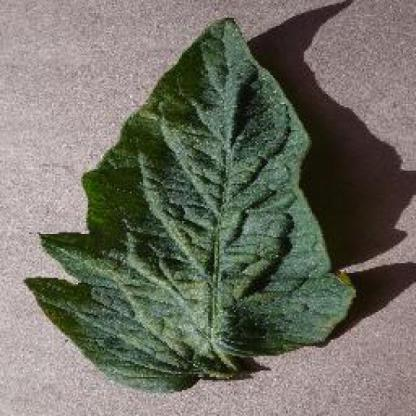Tomato_Spider_Mites: (27, 19, 351, 384)
